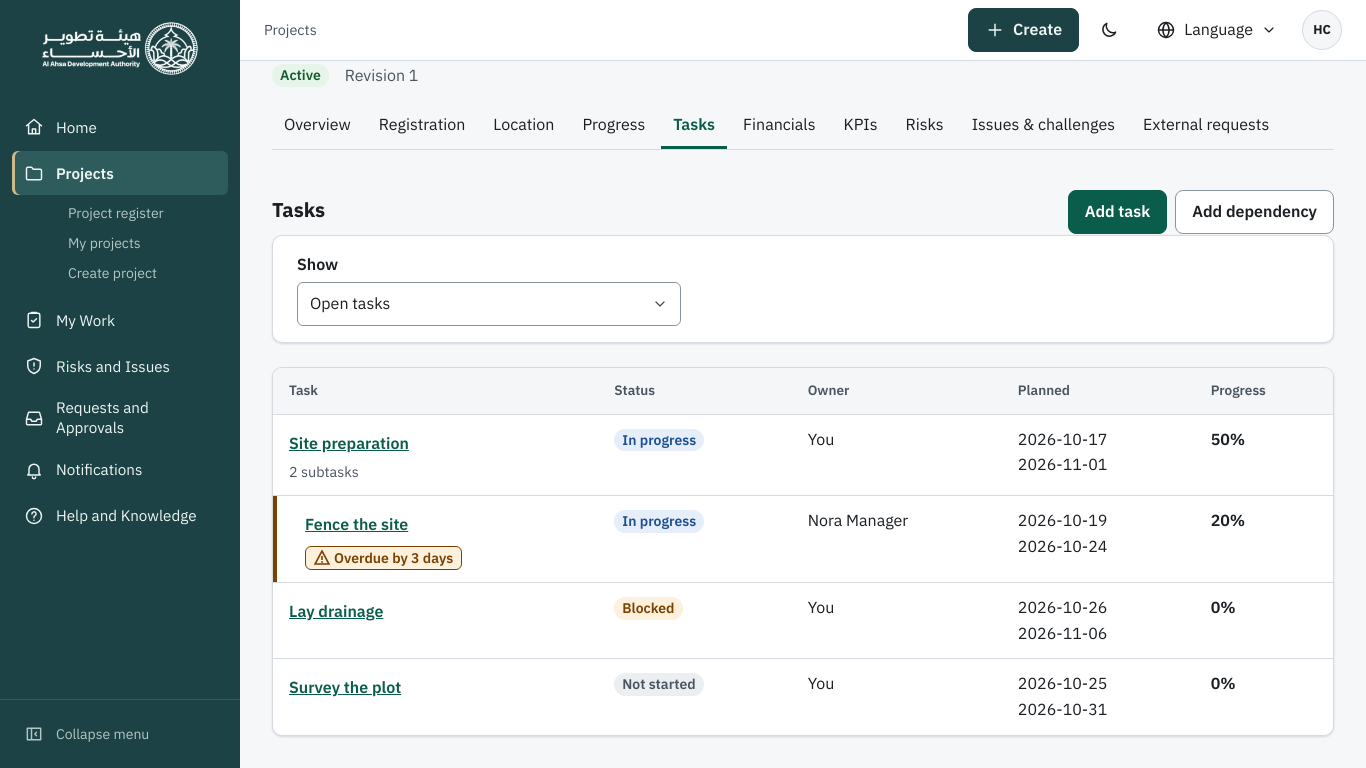
Test case: SCR-047 Project Tasks › the schedule unreadable (403) names activities by short id and the form says why it offers none
This screenshot has width=1366, height=768.
(page scrolled)
Click the button "Survey the plot" at x=345, y=688, box [289,671,401,705]
(page scrolled)
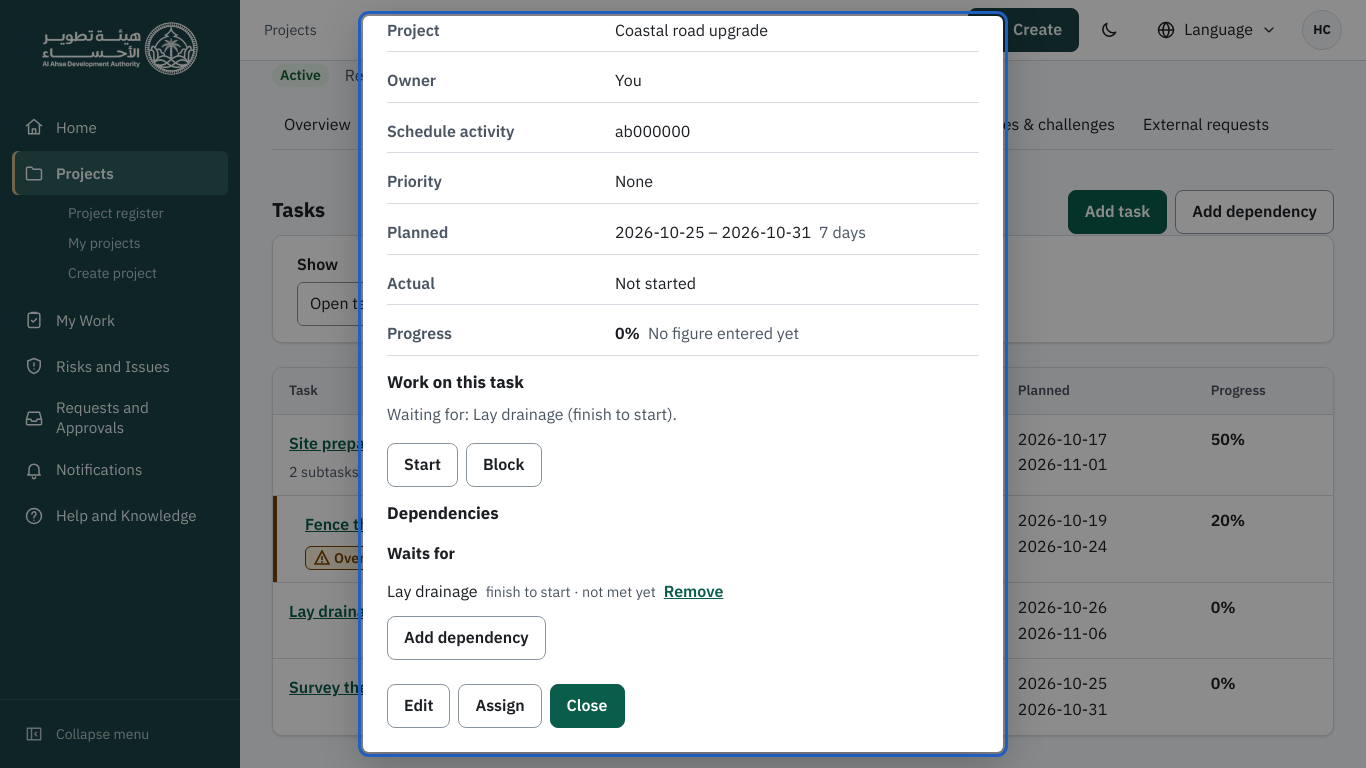
Expected: the text "ab000000" is shown, [615,121,690,141]
Click the button "Edit" at x=419, y=706, box [387,684,450,728]
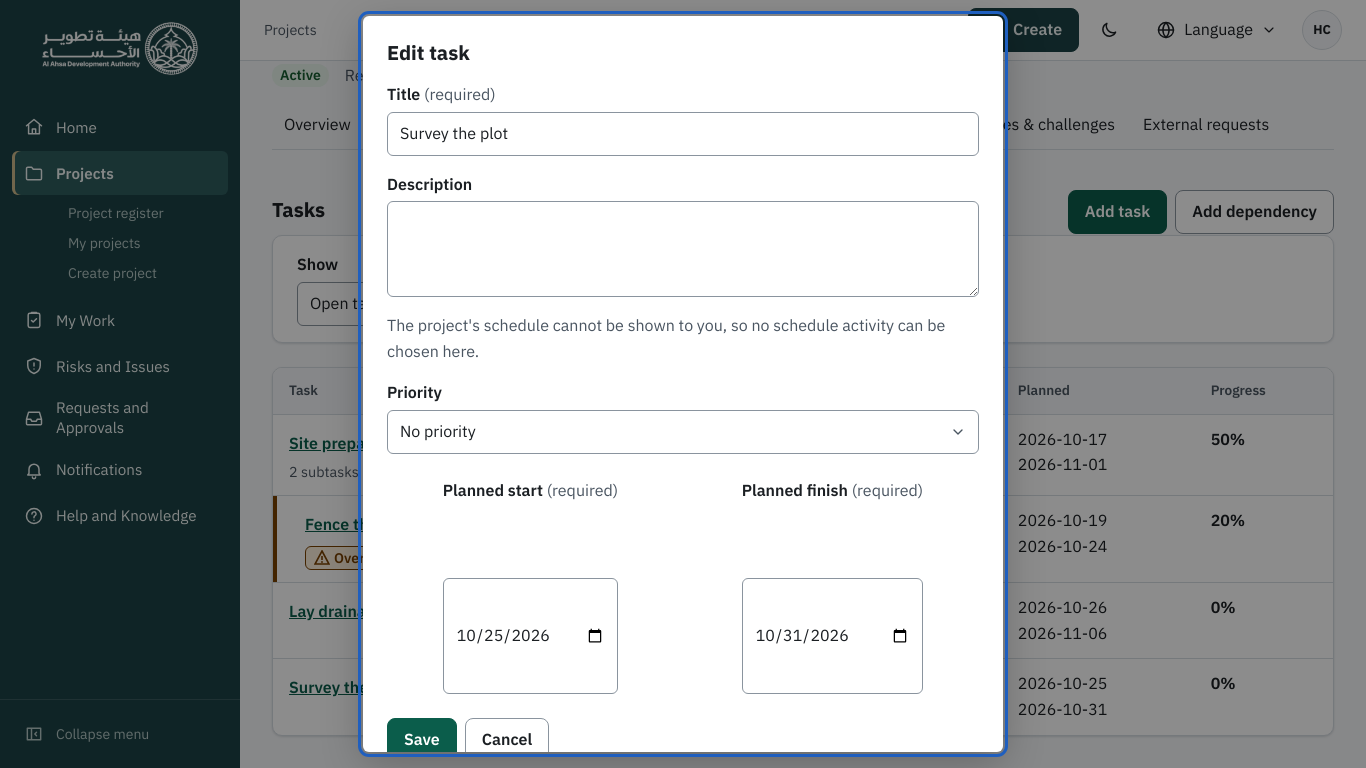
Expected: the text "The project's schedule cannot be shown to you, so no schedule activity can be chosen here." is shown, [387,315,945,361]
